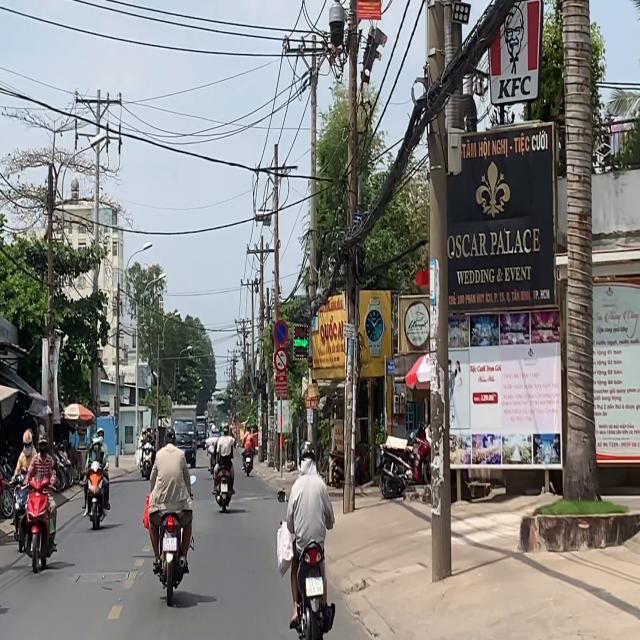Cam con lai: (274, 346, 288, 374)
Cam do: (274, 319, 288, 346)
